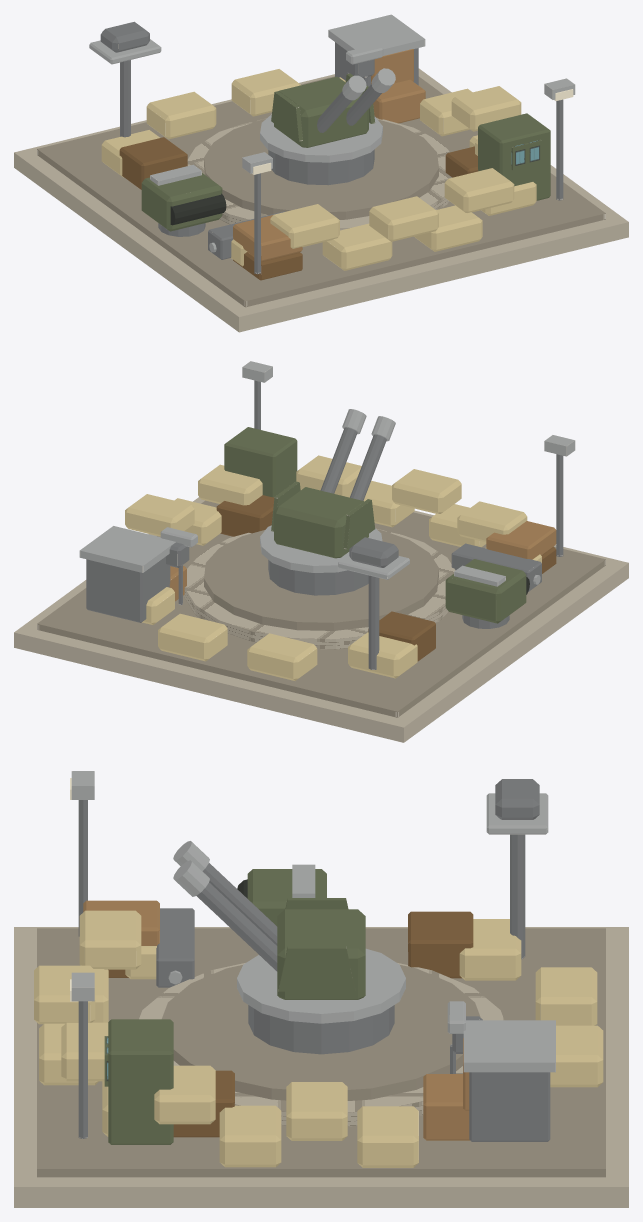
File: aaGun.glb
3 views of the same model, one above another, from view 1: azimuth 30°, elevation 25°; view 2: azimuth 150°, elevation 25°; view 3: azimuth 270°, elevation 25° (orthographic). The views are drawn at different scales.
Visible parts, largest first — view 1: AAGun, Lv1, Lv2, AA_Turret, AA_Barrels; view 2: AAGun, Lv1, Lv2, AA_Turret, AA_Barrels; view 3: AAGun, Lv1, Lv2, AA_Turret, AA_Barrels.
Part boxes in pixels (x1,y1,x2,y2): AAGun: [14, 68, 628, 332]; Lv1: [89, 14, 550, 270]; Lv2: [141, 44, 575, 280]; AA_Turret: [271, 73, 375, 147]; AA_Barrels: [317, 68, 395, 132]; AAGun: [14, 495, 628, 742]; Lv1: [79, 427, 541, 680]; Lv2: [160, 361, 575, 628]; AA_Turret: [271, 481, 375, 558]; AA_Barrels: [320, 409, 395, 500]; AAGun: [14, 908, 628, 1207]; Lv1: [34, 779, 603, 1167]; Lv2: [70, 771, 482, 1138]; AA_Turret: [277, 898, 365, 999]; AA_Barrels: [173, 841, 277, 971].
Size of the model in its own units: 8 by 3.24 by 8.
2 materials, 1 textured.
